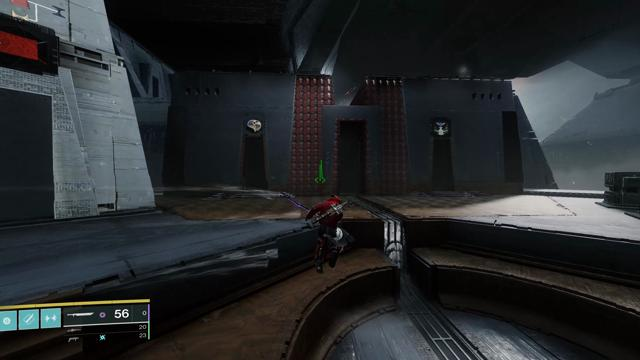brain: (246, 117, 262, 134)
drink: (434, 120, 448, 135)
stop: (0, 26, 48, 71)
